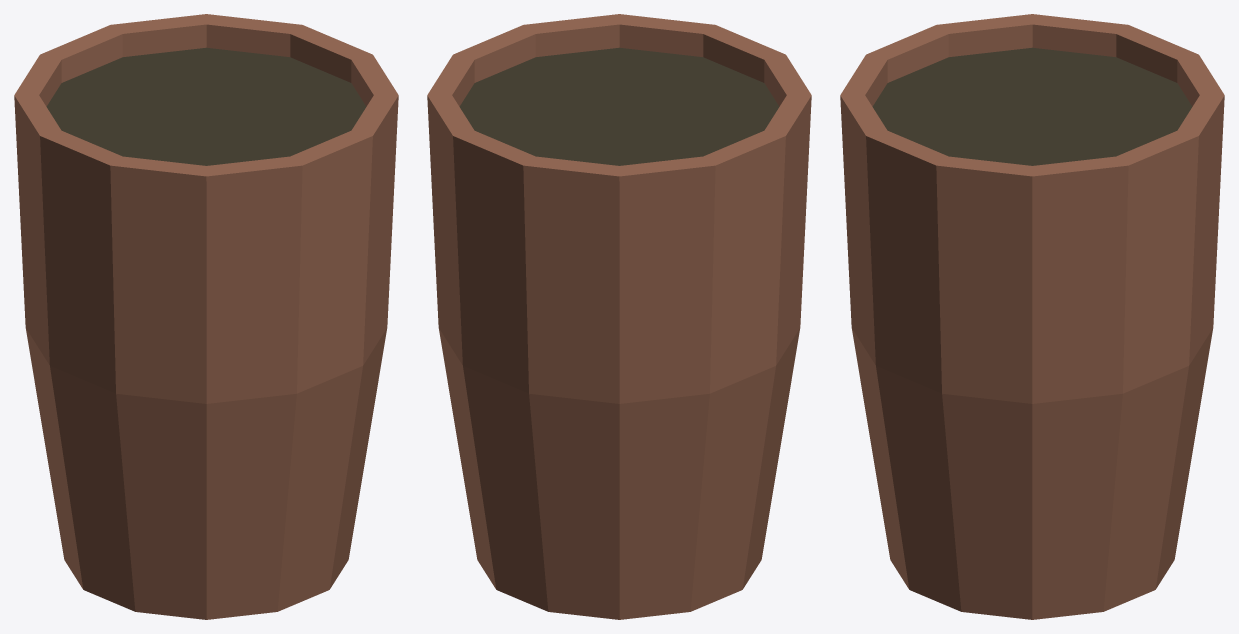
The model's file is Amphor_A.fbx.
The picture shows the model from 3 angles, left to right: view 1: azimuth 30°, elevation 25°; view 2: azimuth 150°, elevation 25°; view 3: azimuth 270°, elevation 25°; orthographic projection.
Visible parts, largest first — view 1: Amphor_A; view 2: Amphor_A; view 3: Amphor_A.
Boxes of the visible parts, <box> form: Amphor_A: <box>14,14,398,619</box>; Amphor_A: <box>427,14,811,619</box>; Amphor_A: <box>840,14,1224,619</box>.
Bounding box in the file's own units: 150 × 200 × 150.
Materials: 1 (1 with a texture image).
